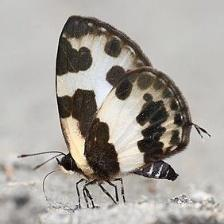butterfly: (57, 16, 194, 184)
